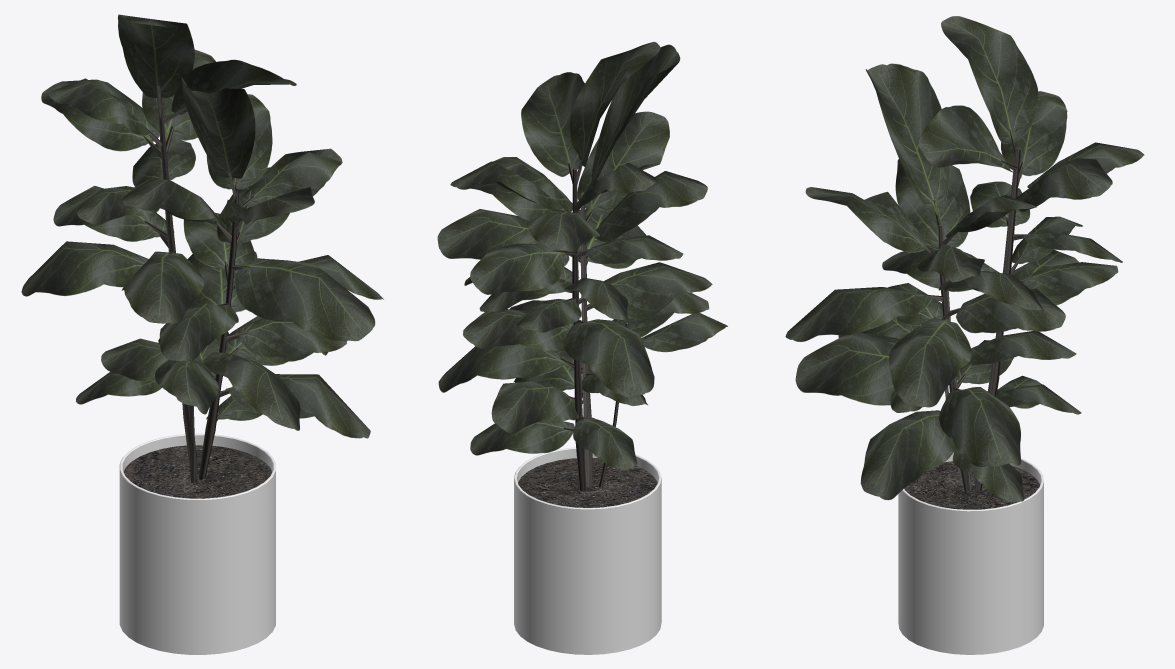
File: glb-29.glb
3 renders of one model, left to right at view 1: azimuth 30°, elevation 25°; view 2: azimuth 150°, elevation 25°; view 3: azimuth 270°, elevation 25°, orthographic. The views are drawn at different scales.
Visible parts, largest first — view 1: M_shu; view 2: M_shu; view 3: M_shu.
Boxes of the visible parts, x1,y1,x2,y2 form: M_shu: (21, 14, 383, 654); M_shu: (437, 42, 727, 654); M_shu: (785, 16, 1144, 654).
Size of the model in its own units: 0.8061 by 1.6 by 0.9762.
Materials: 4 (3 with a texture image).
